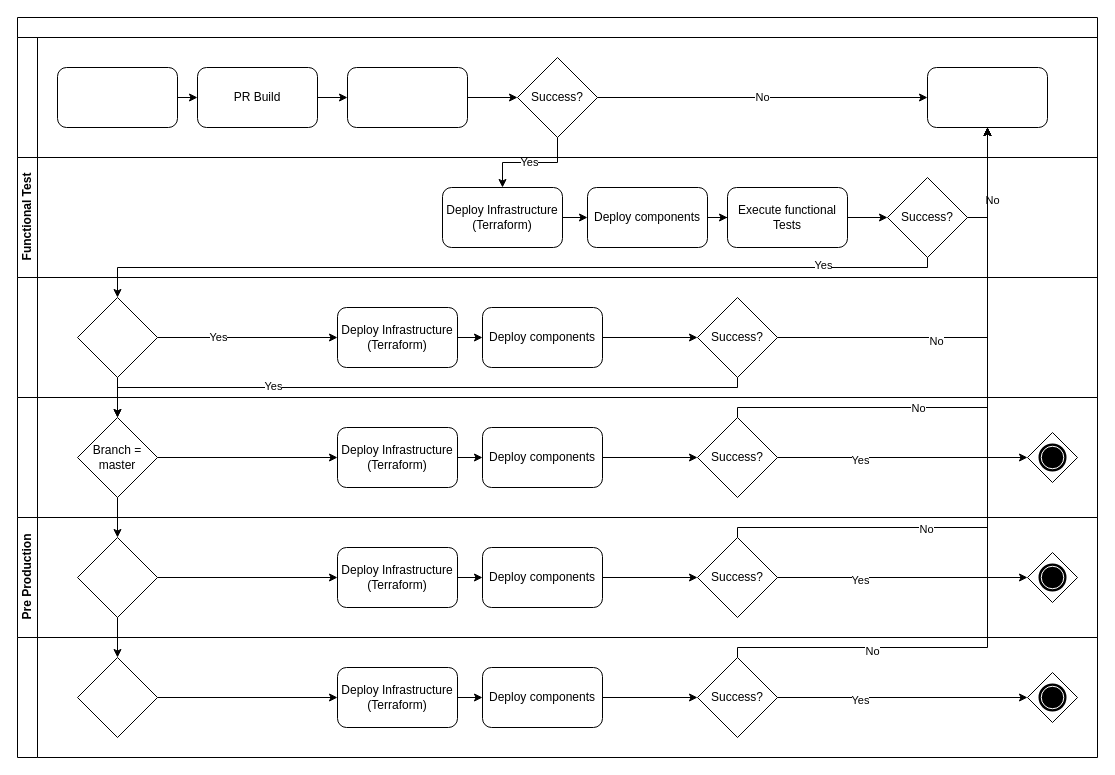
Image size: 1115x775. Some labels were removed from this diagram. Each missing label, with the box of its shape:
Branch = main: (76, 296, 158, 378)
Branch = preprod/*: (76, 536, 158, 618)
Branch = releases/*: (76, 656, 158, 738)
Create Pull Request: (56, 66, 178, 128)
Deployment process: (16, 16, 1098, 278)
Dev: (16, 276, 1098, 398)
DfE GitHub: (16, 36, 1098, 158)
Production: (16, 636, 1098, 758)
Report Results: (926, 66, 1048, 128)
Run Unit Tests: (346, 66, 468, 128)
Test: (16, 396, 1098, 518)
